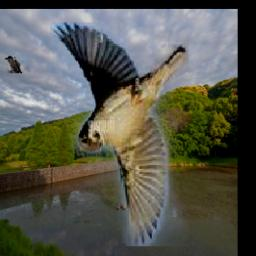Cuckoo: (5, 56, 22, 74)
Sparrow: (50, 23, 189, 247)
